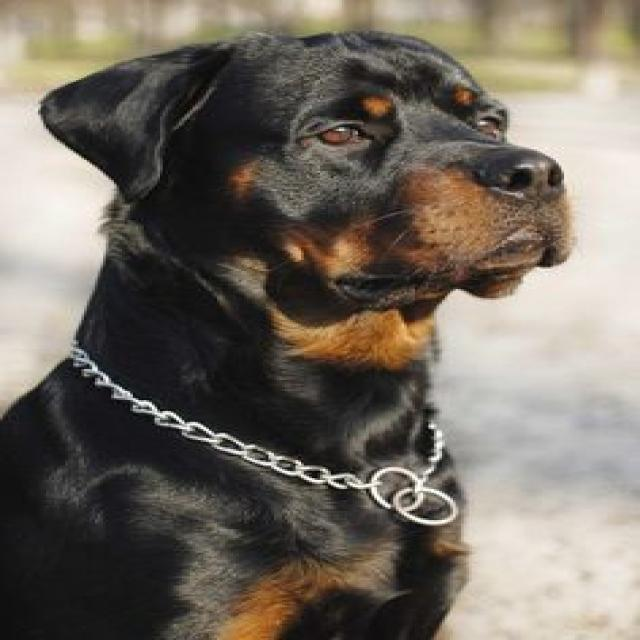Carnivorous: (0, 31, 575, 640)
